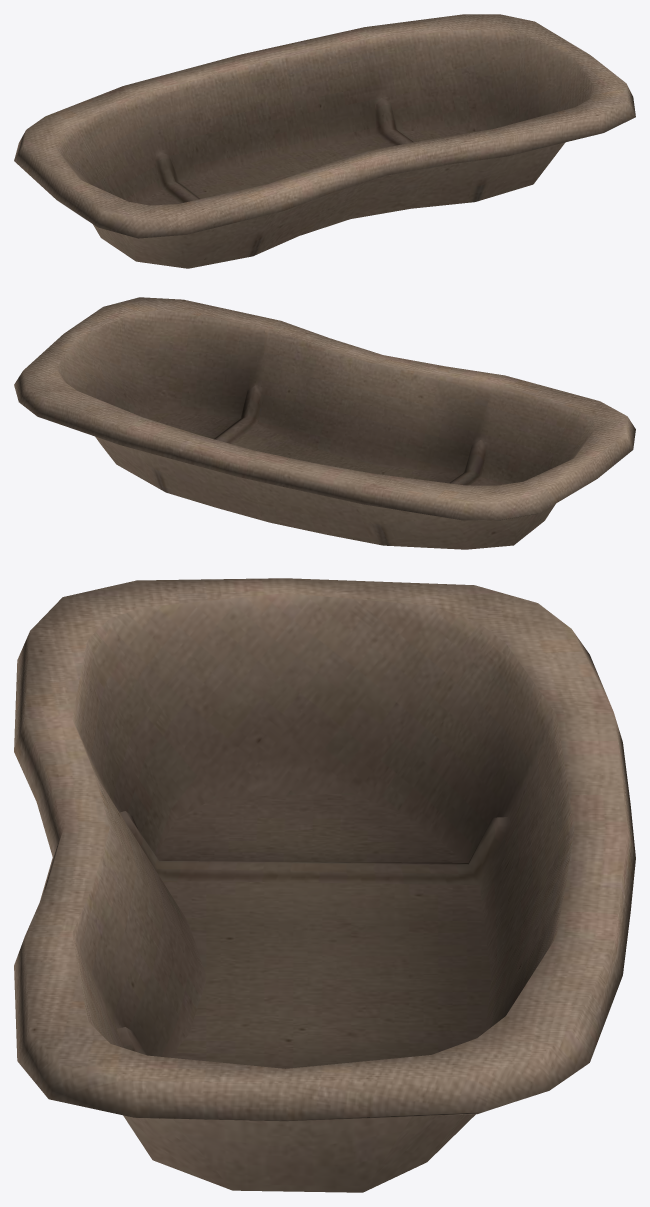
Rendered from trashbucket.fbx.
The picture shows the model from 3 angles, top to bottom: view 1: azimuth 30°, elevation 25°; view 2: azimuth 150°, elevation 25°; view 3: azimuth 270°, elevation 25°; orthographic projection. The views are drawn at different scales.
Visible parts, largest first — view 1: trashbucket; view 2: trashbucket; view 3: trashbucket.
Part boxes in pixels (x1,y1,x2,y2): trashbucket: (14, 14, 635, 268); trashbucket: (14, 297, 635, 549); trashbucket: (14, 578, 635, 1192).
Bounding box in the file's own units: 0.3968 × 0.06 × 0.2007.
